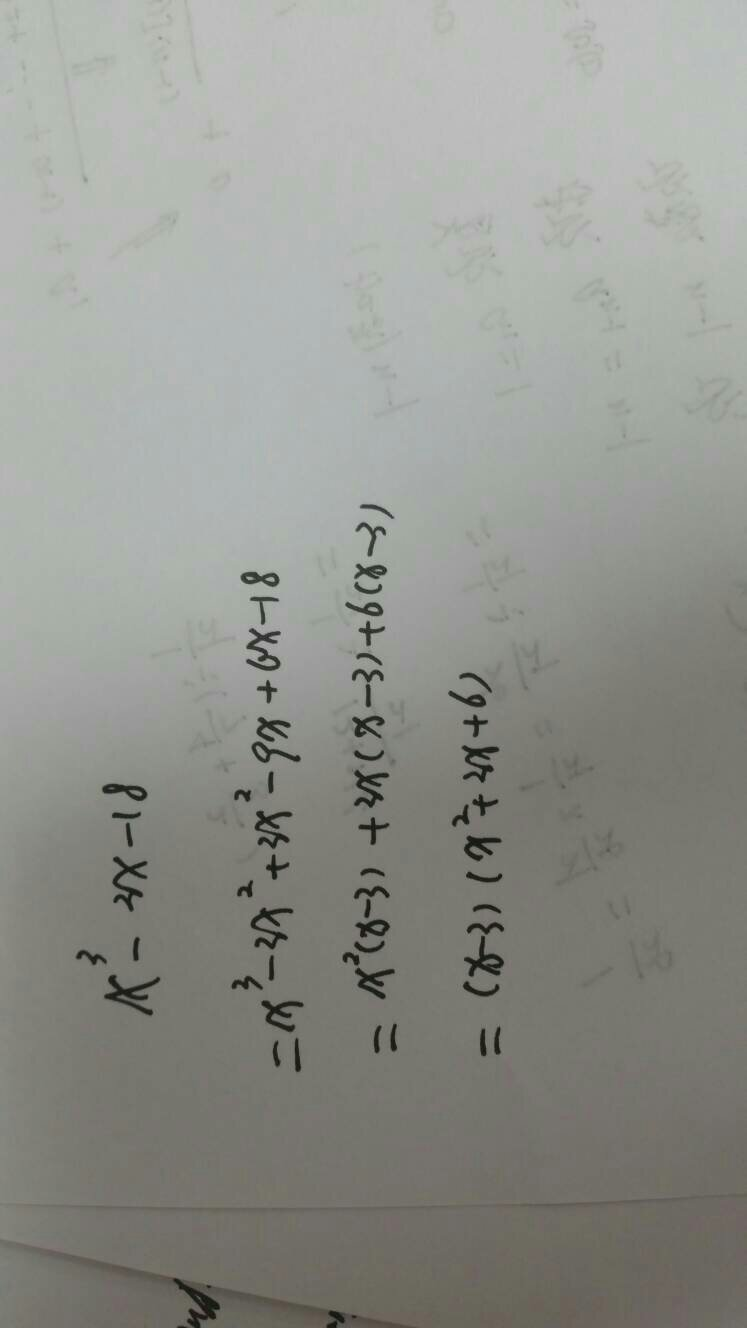cube: (227, 969, 271, 996), (71, 944, 110, 972)
